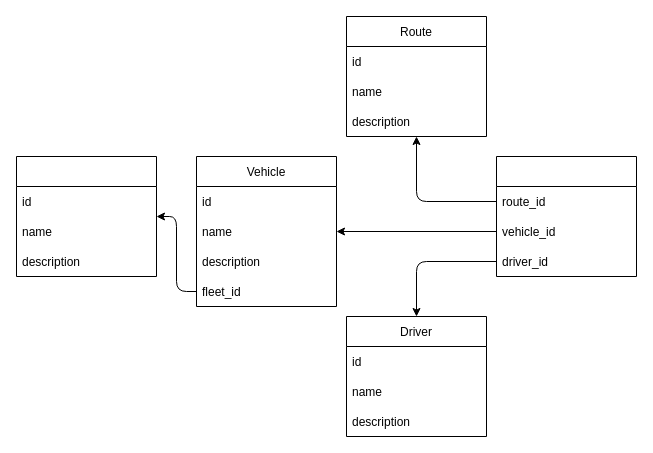
This 653x453 diagram has some shape labels left out. Each missing label, with the box of its shape:
Fleet: (16, 156, 156, 276)
RouteDetail: (496, 156, 636, 276)
